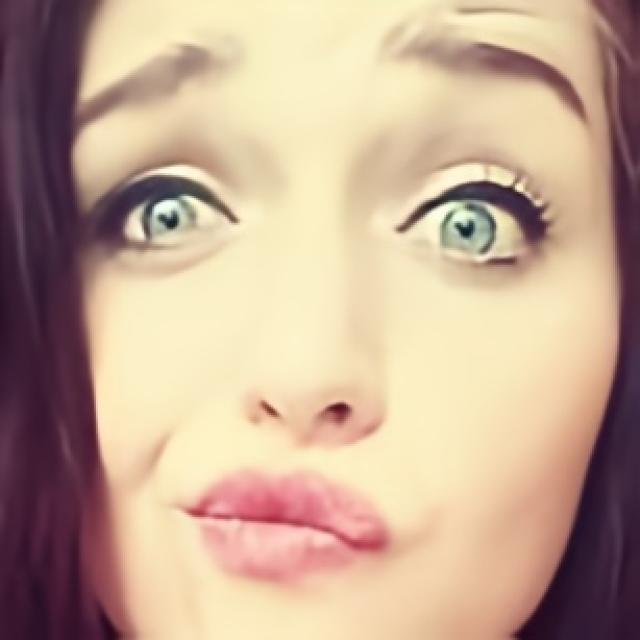fear: (57, 0, 623, 640)
